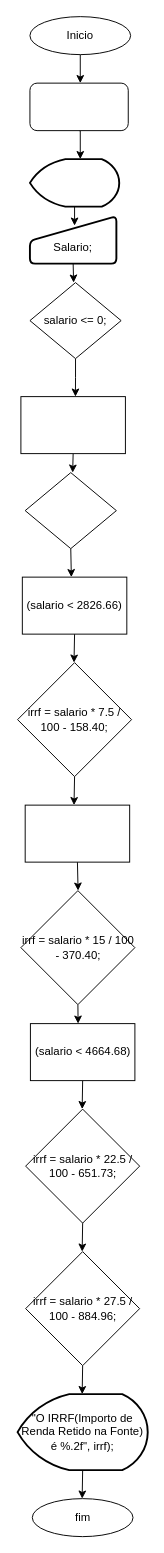
Image size: 164x1553. Some labels were removed from this diagram. Here are the shapes that lost their labels. From the top down, the box of each, then its label:
(29, 82, 128, 131): Salario, irrf;
(28, 158, 120, 207): "Digite o salário do funcionário";
(20, 396, 125, 454): salario < 2112
(24, 472, 116, 549): irrf = 0;
(24, 804, 130, 862): (salario < 3751.06)
